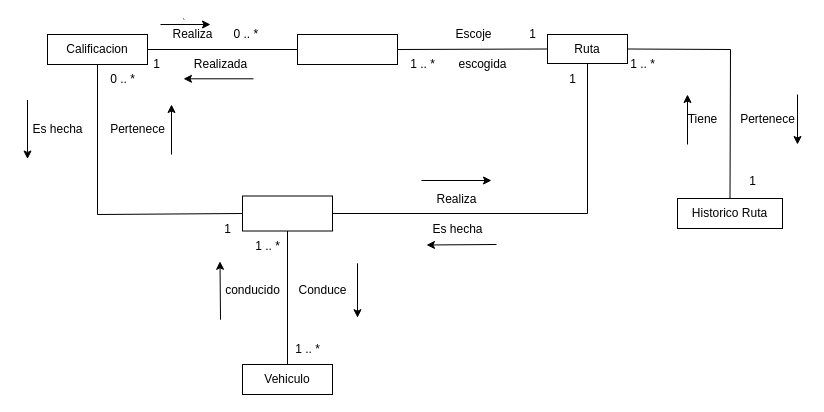
This 824x412 diagram has some shape labels left out. The centre of each missing label's shape, as x and y in pixels:
Cliente: (x=347, y=49)
Conductor: (x=287, y=213)
